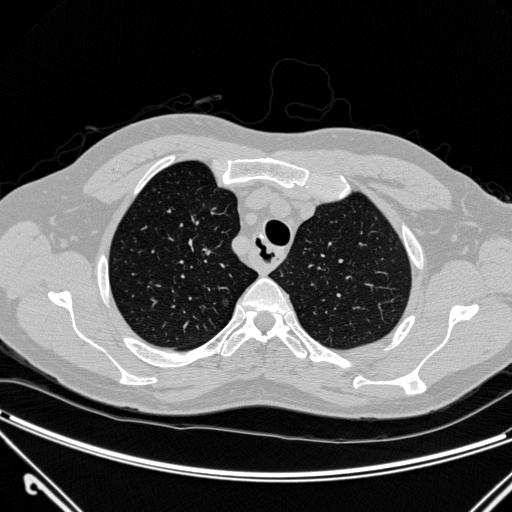nodule: (221, 296, 233, 308)
